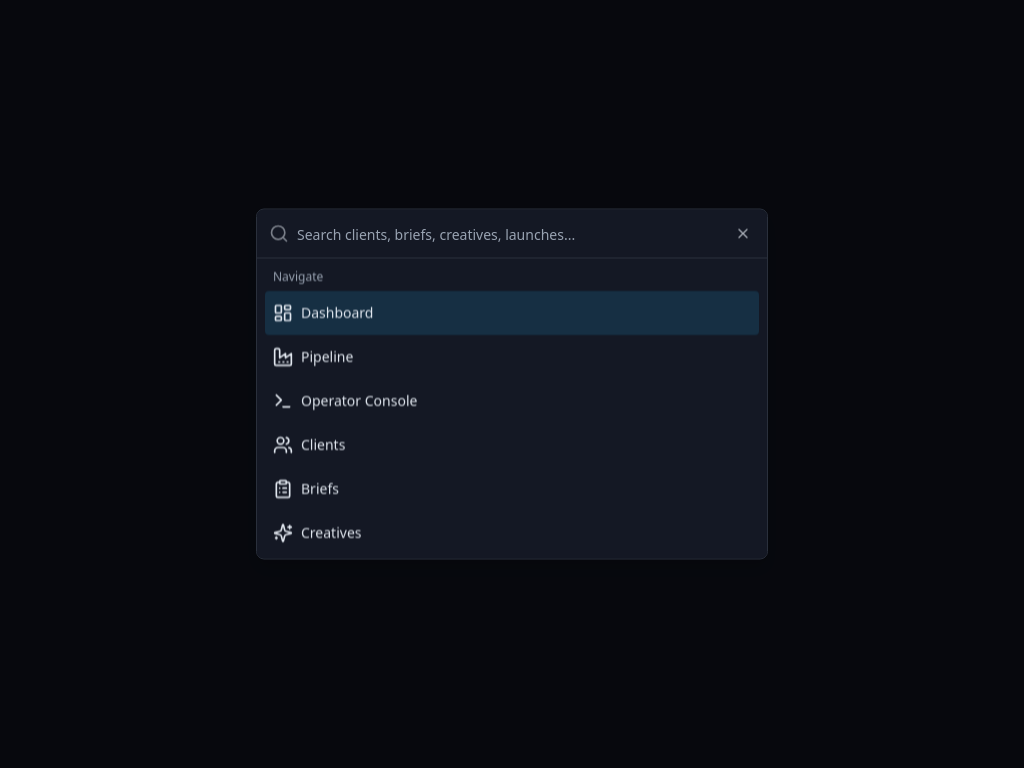
Test case: CommandPalette live search › renders icons for every result kind without crashing
The image size is (1024, 768).
Type "all" into the dropdown with placeholder "Search clients, briefs, creatives, launches..." at (526, 234), box [297,210,755,258]
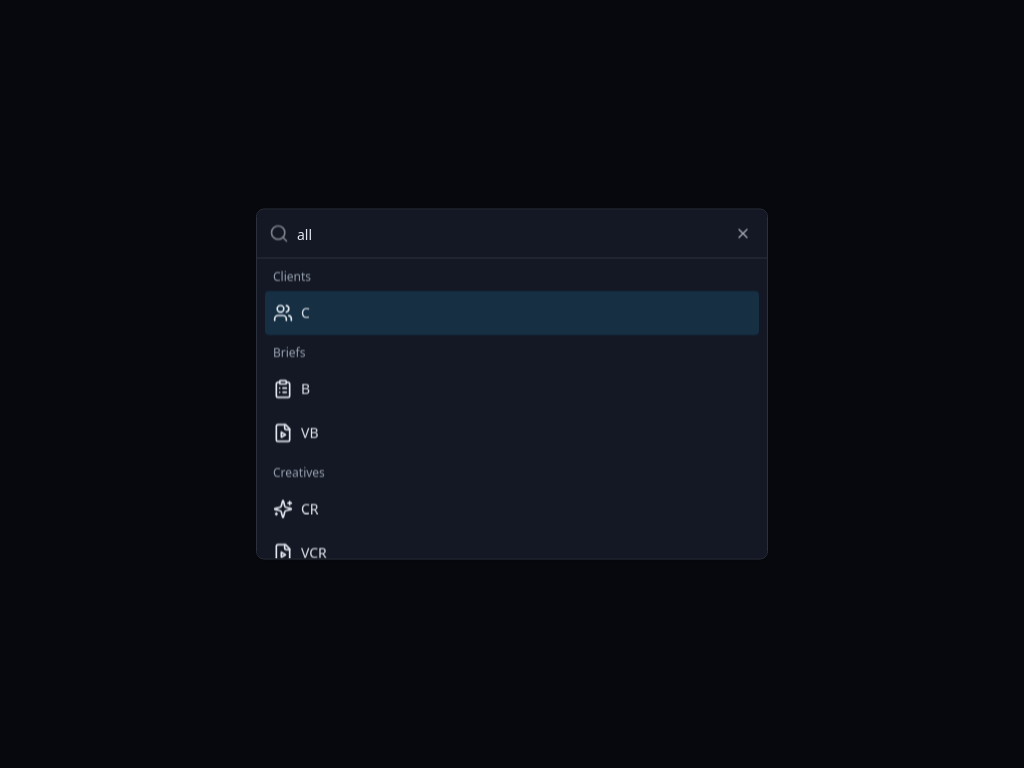
Check: the text "C" is shown, box [301,302,310,322]
Check: the text "B" is shown, box [301,378,310,398]
Check: the text "VB" is shown, box [301,422,318,442]
